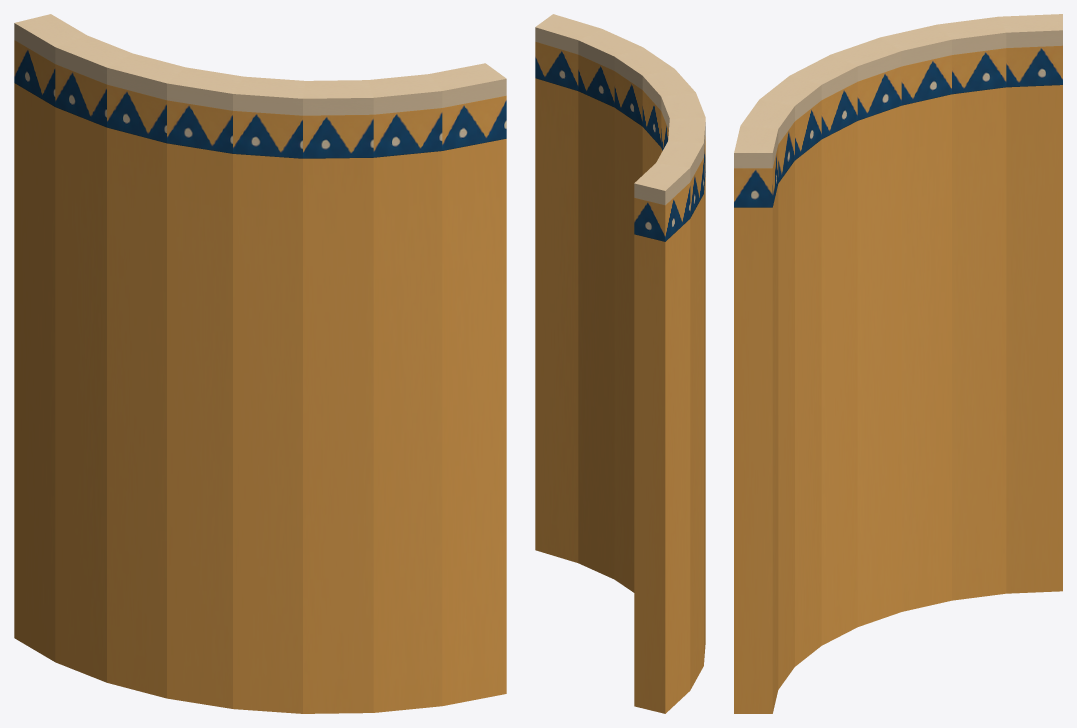
The model's file is rc_wa_wallcorner_rounded_8m.glb.
3 views of the same model, side by side, from view 1: azimuth 30°, elevation 25°; view 2: azimuth 150°, elevation 25°; view 3: azimuth 270°, elevation 25° (orthographic). The views are drawn at different scales.
Parts seen in each view (by area): view 1: SM_RC_WA_Wall_RoundedCorner_8m; view 2: SM_RC_WA_Wall_RoundedCorner_8m; view 3: SM_RC_WA_Wall_RoundedCorner_8m.
Part boxes in pixels (left/top/right/bottom): SM_RC_WA_Wall_RoundedCorner_8m: left=14, top=14, right=506, bottom=713; SM_RC_WA_Wall_RoundedCorner_8m: left=535, top=14, right=705, bottom=713; SM_RC_WA_Wall_RoundedCorner_8m: left=734, top=14, right=1062, bottom=713.
Size of the model in its own units: 4.25 by 8 by 4.25.
1 material, 1 textured.
